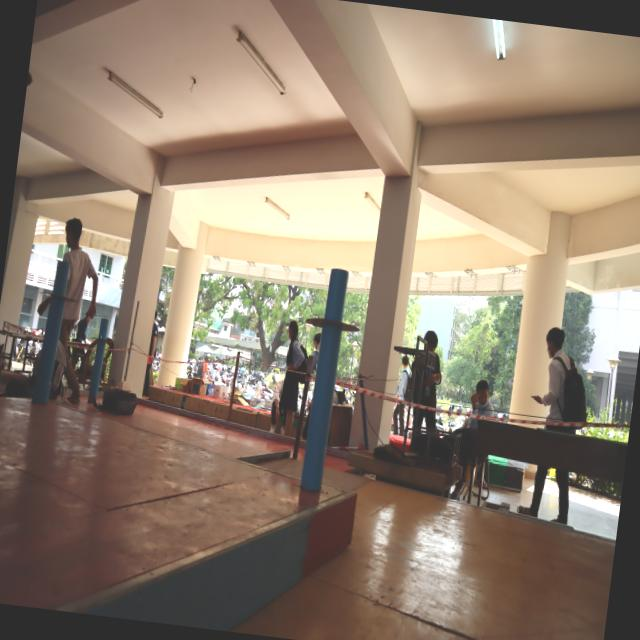pole: (298, 264, 368, 374)
